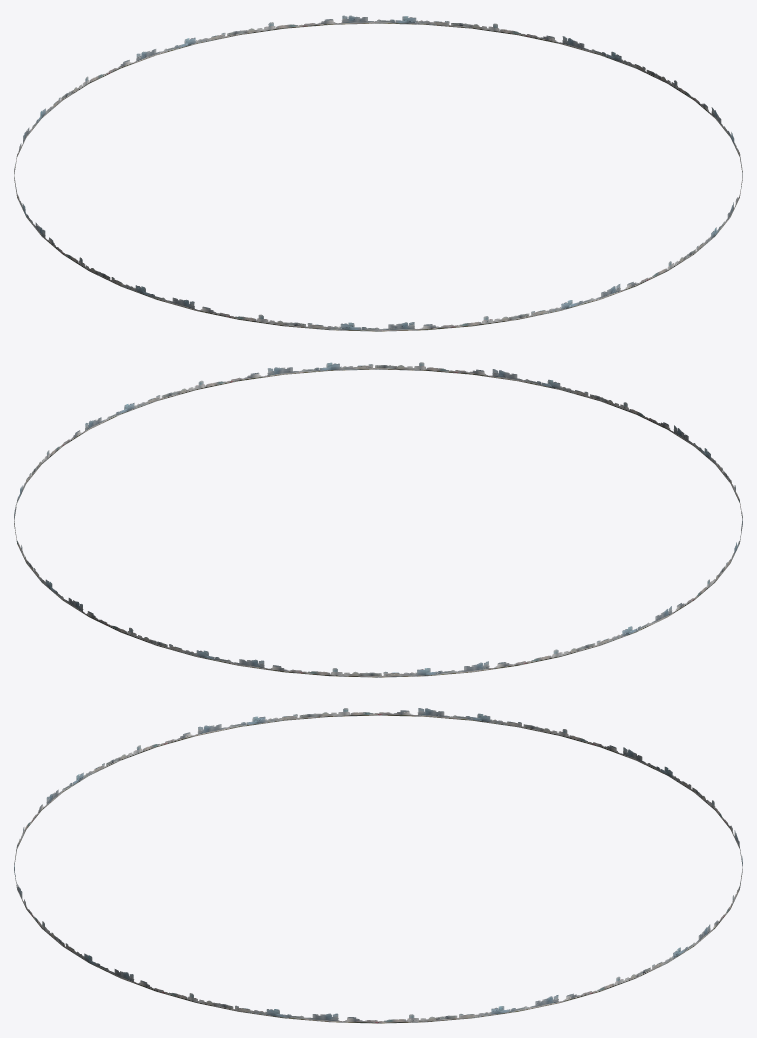
The picture shows the model from 3 angles, top to bottom: view 1: azimuth 30°, elevation 25°; view 2: azimuth 150°, elevation 25°; view 3: azimuth 270°, elevation 25°; orthographic projection.
Visible parts, largest first — view 1: StaticMeshActor_0_StaticMeshComponent0; view 2: StaticMeshActor_0_StaticMeshComponent0; view 3: StaticMeshActor_0_StaticMeshComponent0.
Boxes of the visible parts, x1=… form: StaticMeshActor_0_StaticMeshComponent0: x1=14, y1=15, x2=742, y2=331; StaticMeshActor_0_StaticMeshComponent0: x1=14, y1=362, x2=742, y2=677; StaticMeshActor_0_StaticMeshComponent0: x1=14, y1=708, x2=742, y2=1023.
Bounding box in the file's own units: 19077 × 267 × 19077.
Materials: 1 (1 with a texture image).
